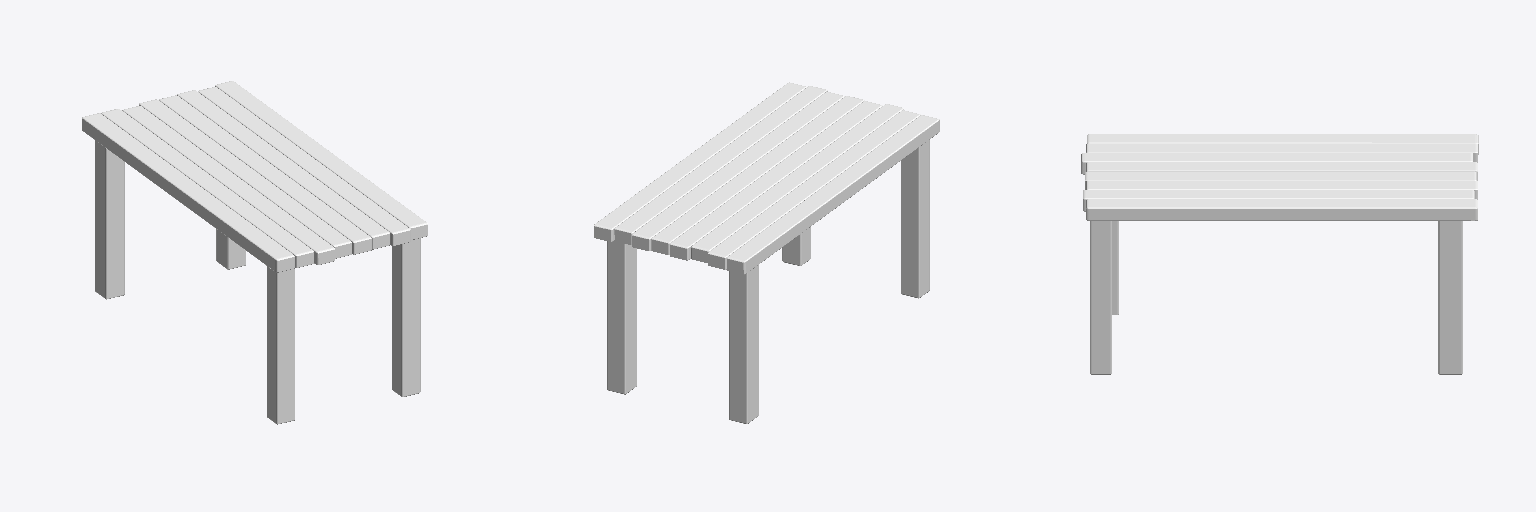
Rendered from Leg_1.obj.
3 renders of one model, left to right at view 1: azimuth 30°, elevation 25°; view 2: azimuth 150°, elevation 25°; view 3: azimuth 270°, elevation 25°, orthographic.
Parts seen in each view (by area): view 1: Leg_1; view 2: Leg_1; view 3: Leg_1.
Part boxes in pixels (bbox=[...]): Leg_1: bbox=[82, 81, 427, 424]; Leg_1: bbox=[594, 82, 939, 423]; Leg_1: bbox=[1081, 134, 1478, 374].
Bounding box in the file's own units: 19.04 × 20.38 × 43.09.